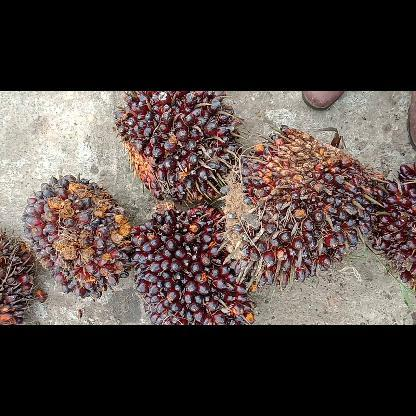Kurang masak: (220, 119, 388, 289), (130, 200, 262, 324), (112, 92, 244, 209), (18, 172, 134, 300)
